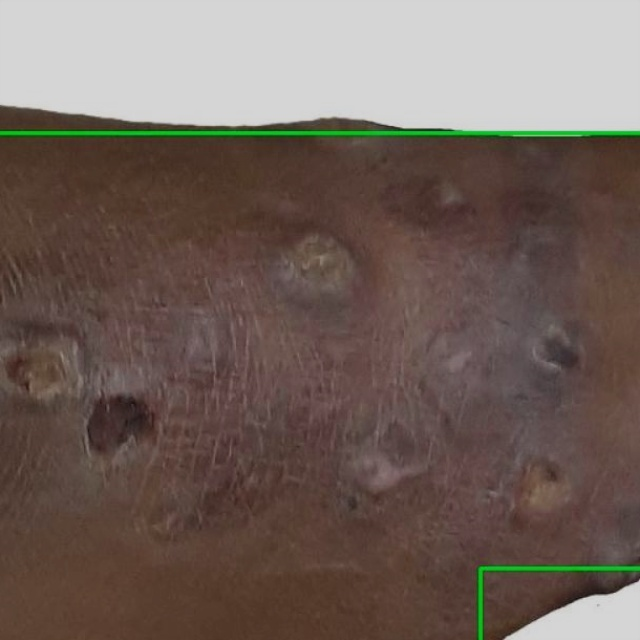Eczema: (0, 0, 639, 134), (480, 568, 639, 639)
